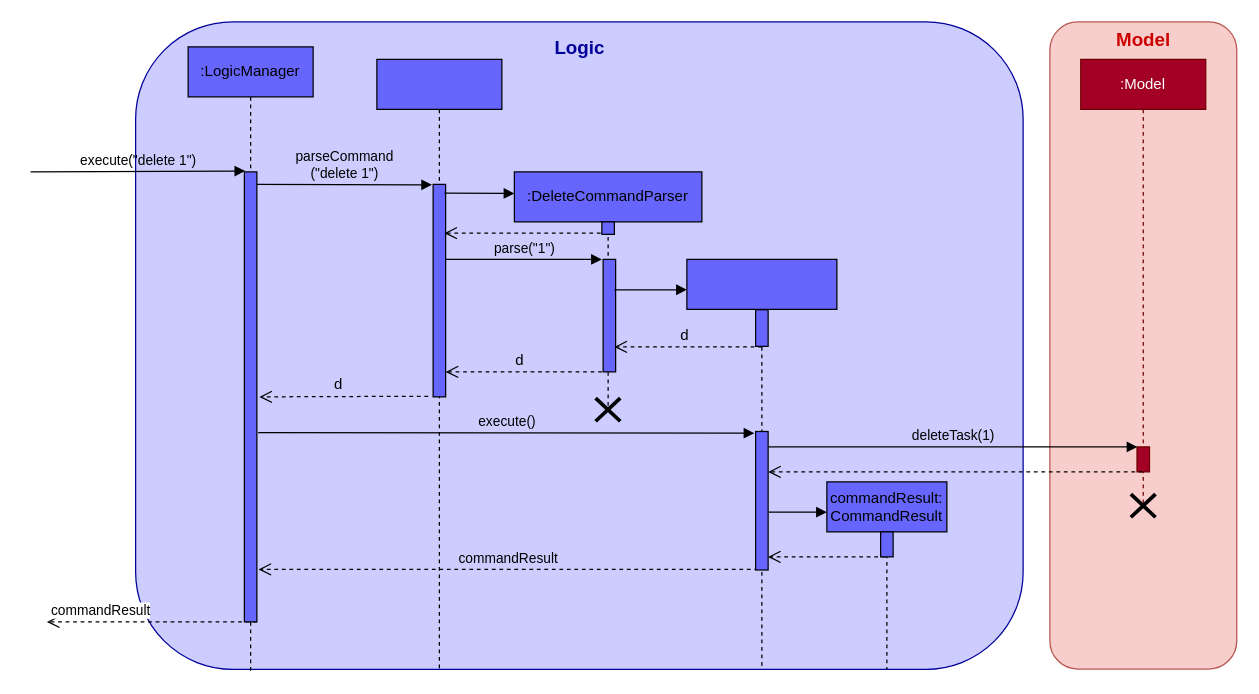
The diagram is 1259 pixels wide and 694 high, and some of its shapes have lost their labels. Here are the shapes that lost their labels. From the top down, the centre of each, then its label:
the point at 439,363: :JelphaBotParser
the point at 761,463: c:DeleteCommand
